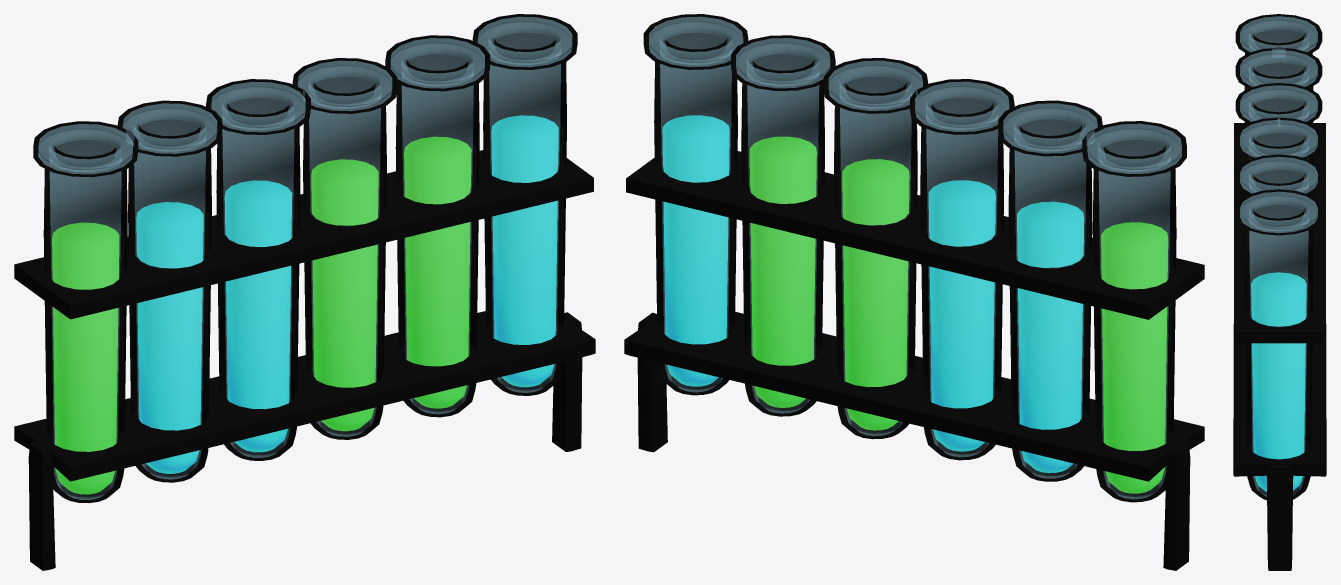
The model's file is tubos de ensayo 1.fbx.
3 renders of one model, left to right at view 1: azimuth 30°, elevation 25°; view 2: azimuth 150°, elevation 25°; view 3: azimuth 270°, elevation 25°, orthographic. The views are drawn at different scales.
Visible parts, largest first — view 1: Cube.005; view 2: Cube.005; view 3: Cube.005.
Part boxes in pixels (x1,y1,x2,y2): Cube.005: [14, 14, 595, 570]; Cube.005: [624, 14, 1204, 570]; Cube.005: [1233, 14, 1326, 570].
Size of the model in its own units: 58.43 by 43.47 by 10.7.
